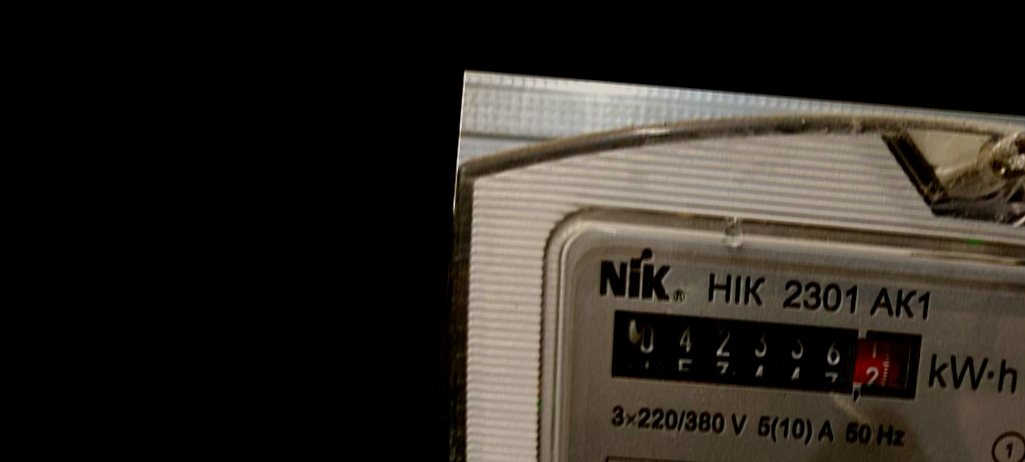0: (639, 321, 660, 356)
1: (869, 334, 883, 361)
2: (715, 324, 738, 359), (864, 365, 882, 387)
3: (752, 326, 772, 359), (790, 329, 810, 362)
4: (679, 321, 698, 354)
6: (825, 334, 848, 369)
screen: (598, 295, 939, 414)
